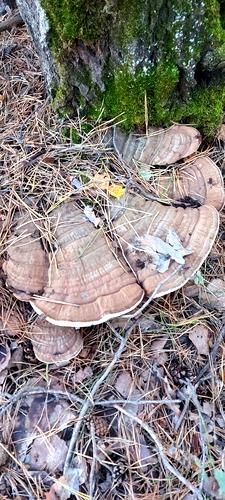Ganoderma - Fruit Body: (1, 120, 224, 320)
